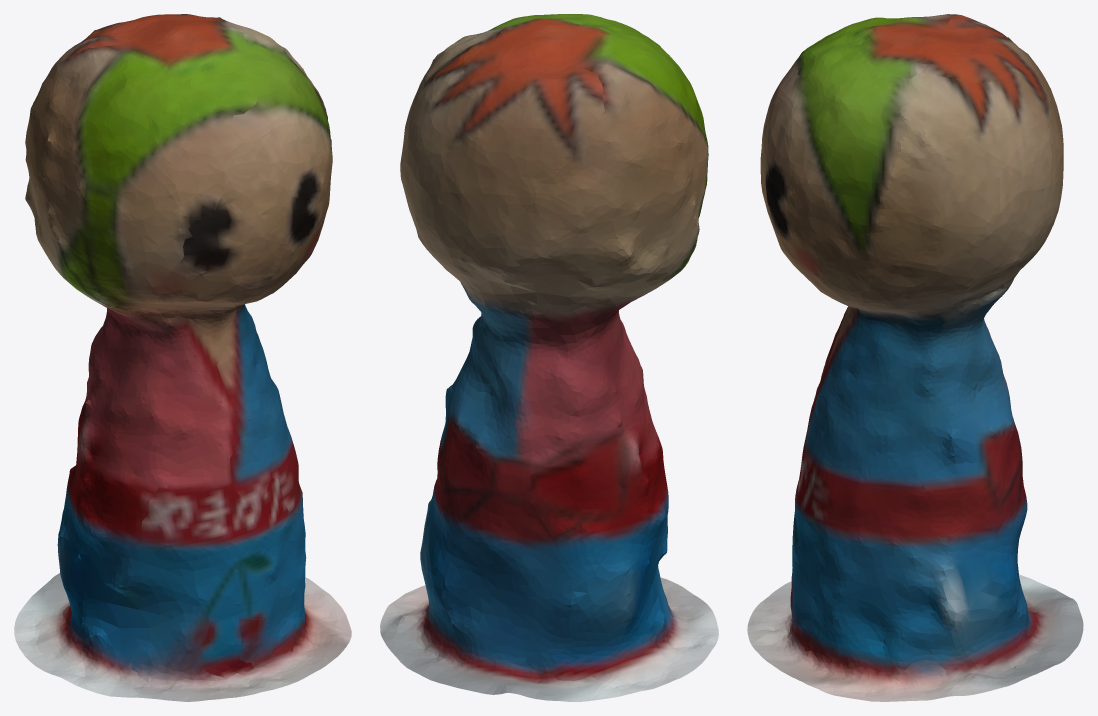
File: kokeshiS004.glb
3 renders of one model, left to right at view 1: azimuth 30°, elevation 25°; view 2: azimuth 150°, elevation 25°; view 3: azimuth 270°, elevation 25°, orthographic.
Parts seen in each view (by area): view 1: mesh; view 2: mesh; view 3: mesh.
Part boxes in pixels (bbox=[...]): mesh: bbox=[14, 14, 351, 701]; mesh: bbox=[380, 14, 718, 701]; mesh: bbox=[747, 14, 1083, 701].
Bounding box in the file's own units: 0.0491 × 0.0959 × 0.0491.
Materials: 1 (1 with a texture image).
